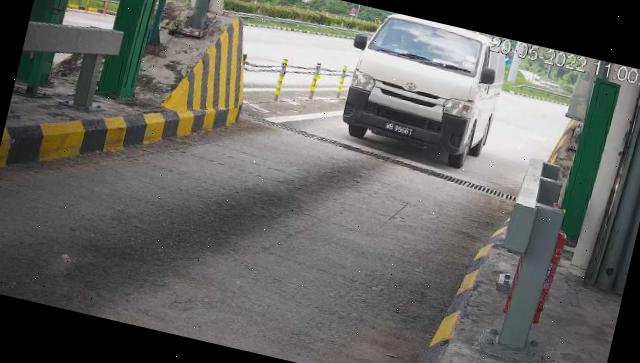License_Plate: (384, 121, 415, 138)
van: (339, 8, 514, 176)
